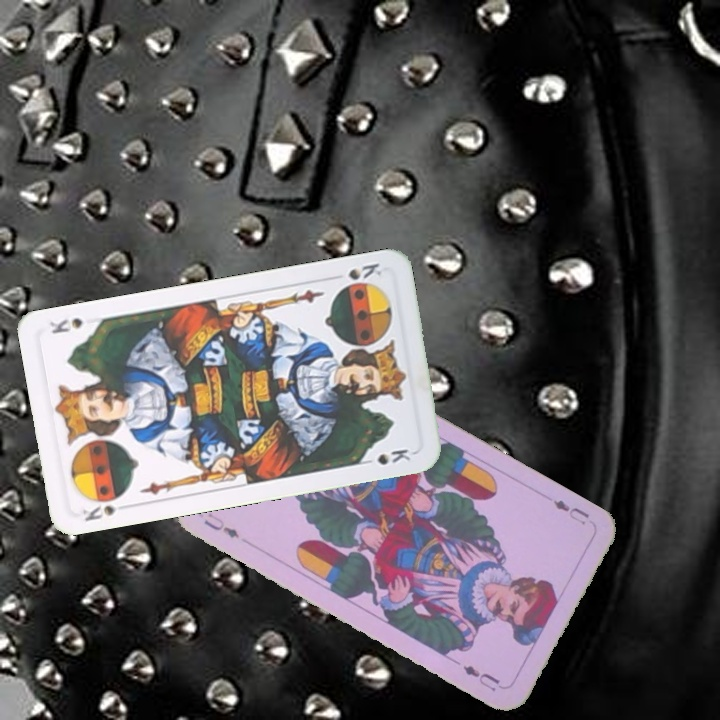EU: (549, 495, 592, 528), (200, 509, 242, 541)
SK: (78, 490, 133, 524), (327, 259, 384, 283)
